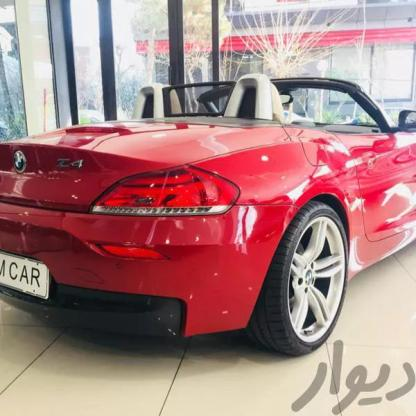Car: (0, 79, 416, 373)
